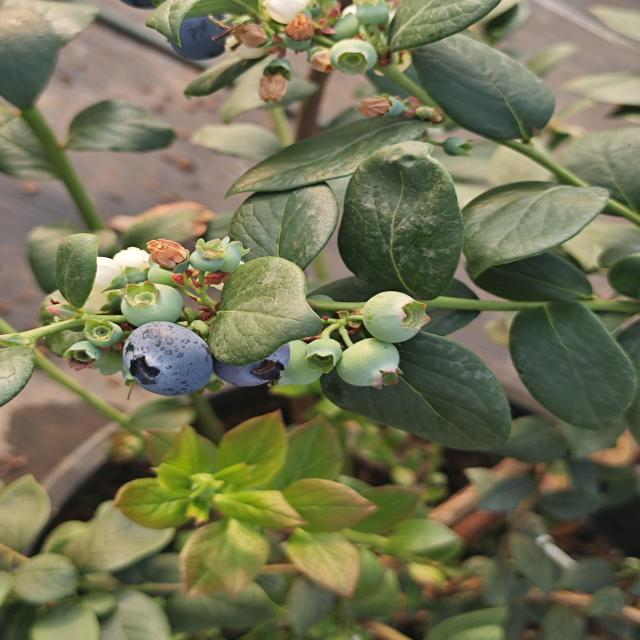ripe: (116, 317, 218, 396), (162, 12, 244, 71), (227, 346, 298, 389)
